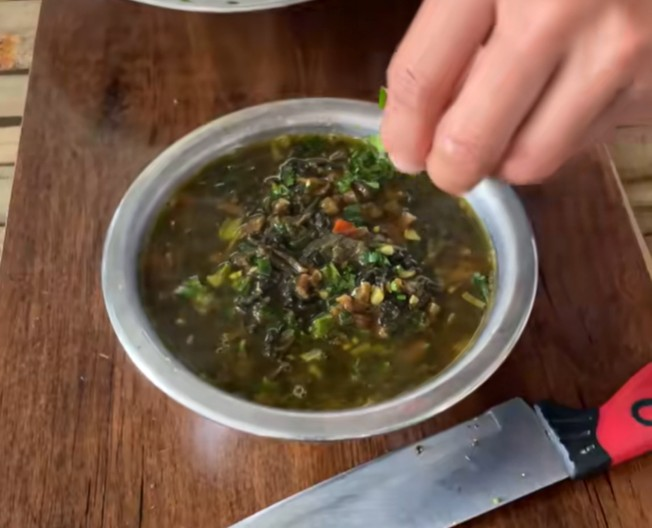gundruk: (166, 139, 449, 384)
